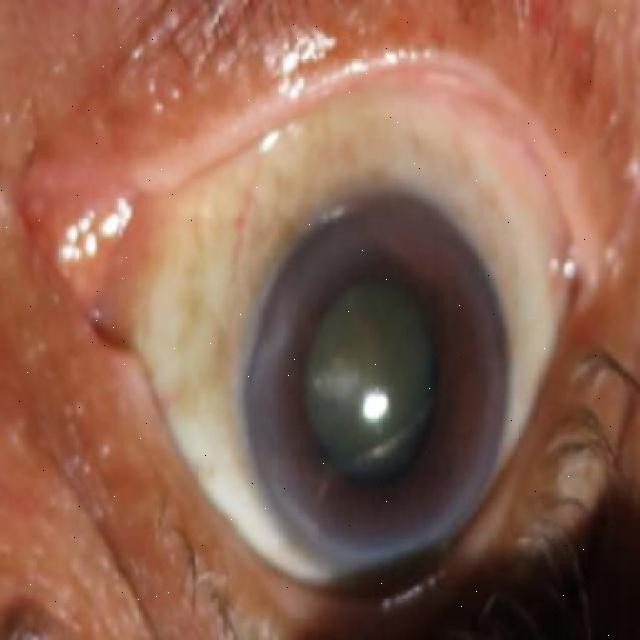Cataract: (241, 187, 515, 568)
